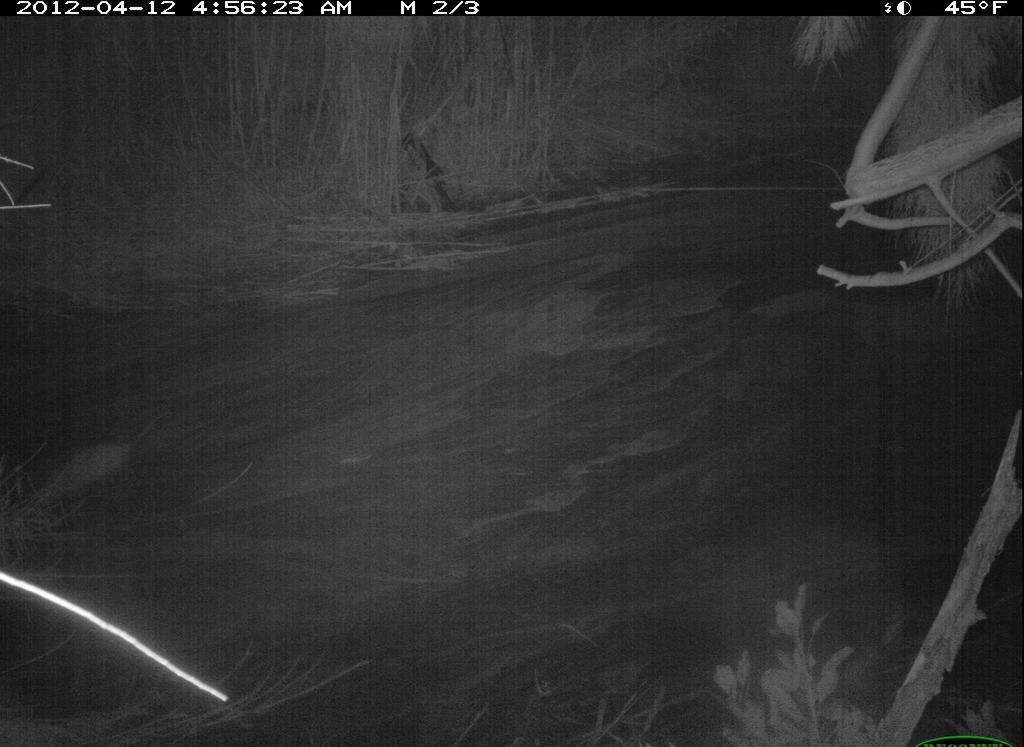opossum: (29, 405, 181, 509)
